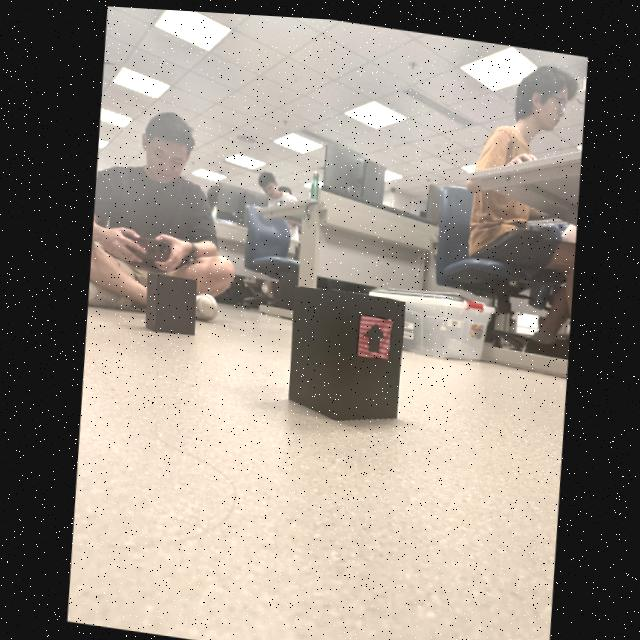UP: (362, 318, 383, 348)
